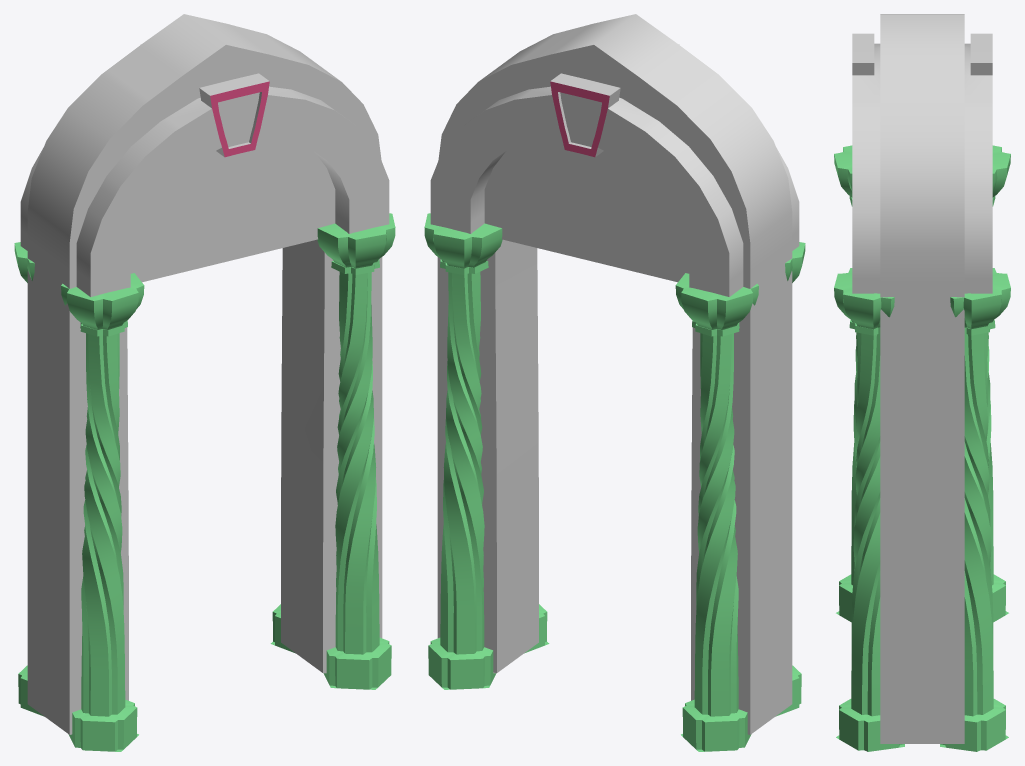
File: DoorwarArch.fbx
The picture shows the model from 3 angles, left to right: view 1: azimuth 30°, elevation 25°; view 2: azimuth 150°, elevation 25°; view 3: azimuth 270°, elevation 25°; orthographic projection.
Parts seen in each view (by area): view 1: DoorWayWithArch.003; view 2: DoorWayWithArch.003; view 3: DoorWayWithArch.003.
Boxes of the visible parts, left/top/right/bottom form: DoorWayWithArch.003: left=14, top=14, right=395, bottom=751; DoorWayWithArch.003: left=424, top=14, right=805, bottom=751; DoorWayWithArch.003: left=834, top=14, right=1010, bottom=751.
Bounding box in the file's own units: 213 × 412 × 100.
